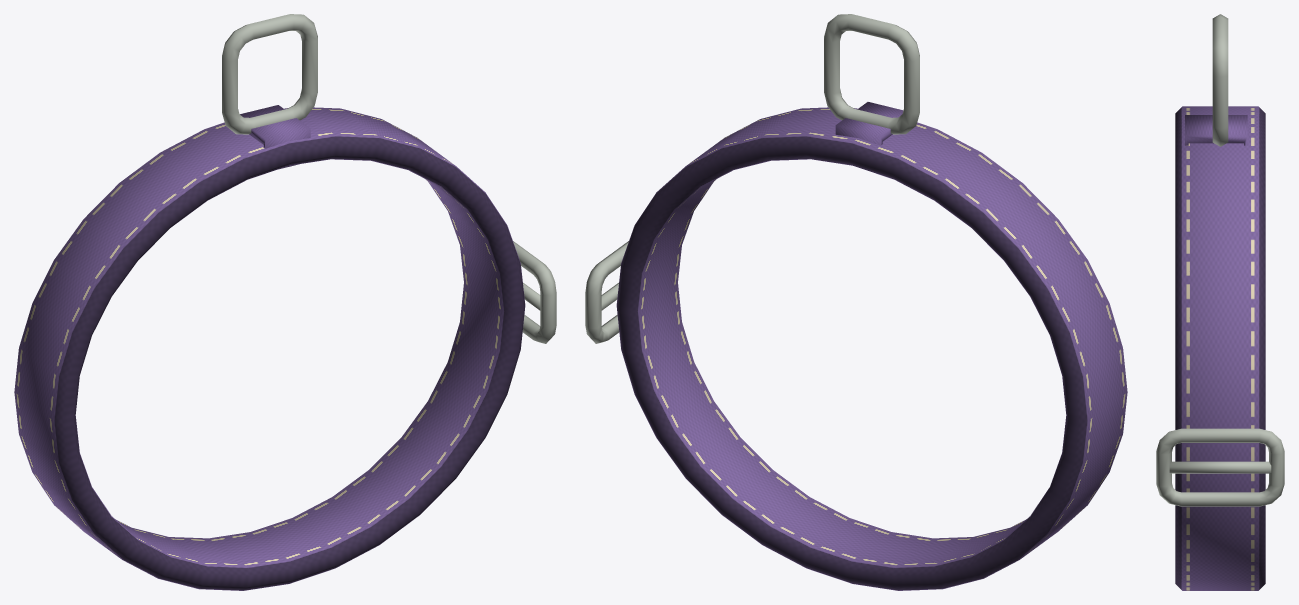
Rendered from KH_Collar_Shiba.fbx.
3 views of the same model, side by side, from view 1: azimuth 30°, elevation 25°; view 2: azimuth 150°, elevation 25°; view 3: azimuth 270°, elevation 25° (orthographic). The views are drawn at different scales.
Parts seen in each view (by area): view 1: KH_Collar_Shiba; view 2: KH_Collar_Shiba; view 3: KH_Collar_Shiba.
Boxes of the visible parts, x1,y1,x2,y2 form: KH_Collar_Shiba: (14, 14, 556, 590); KH_Collar_Shiba: (585, 14, 1127, 590); KH_Collar_Shiba: (1156, 14, 1284, 590).
Bounding box in the file's own units: 0.1969 × 0.2107 × 0.0456.
Materials: 1 (1 with a texture image).
